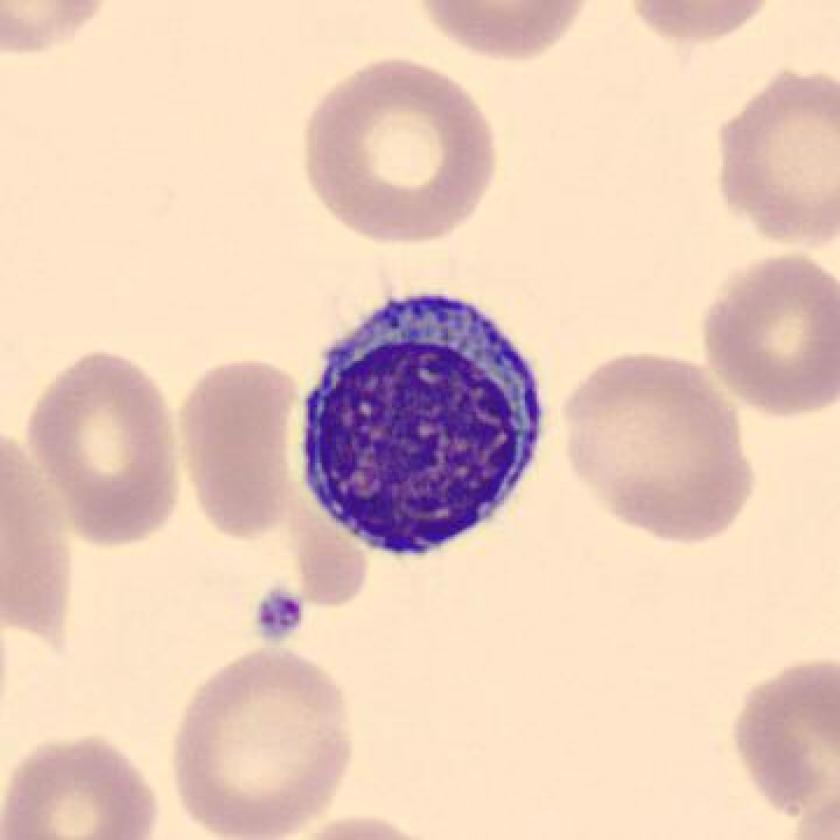lymphocyte: (279, 269, 561, 575)
